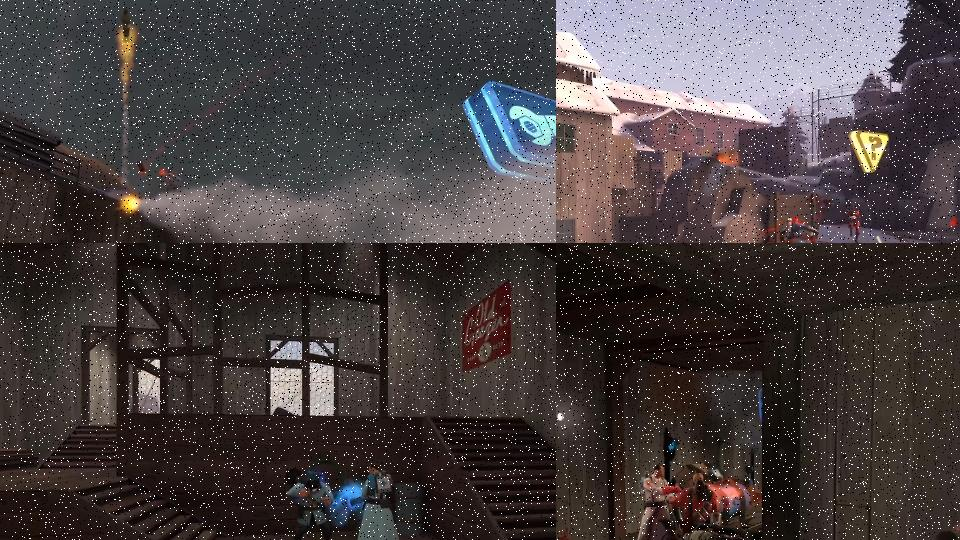Enemy: (669, 472, 761, 540), (282, 464, 342, 540), (347, 462, 403, 540), (633, 464, 681, 540), (771, 216, 818, 243), (164, 165, 184, 198), (845, 204, 861, 243)
